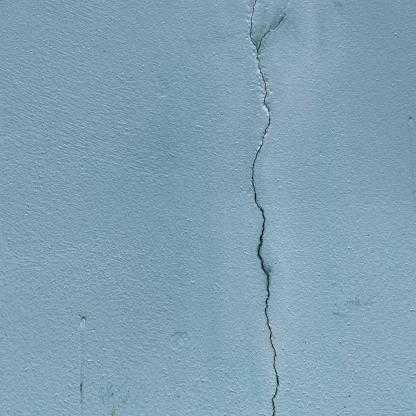crack: (249, 0, 286, 414)
